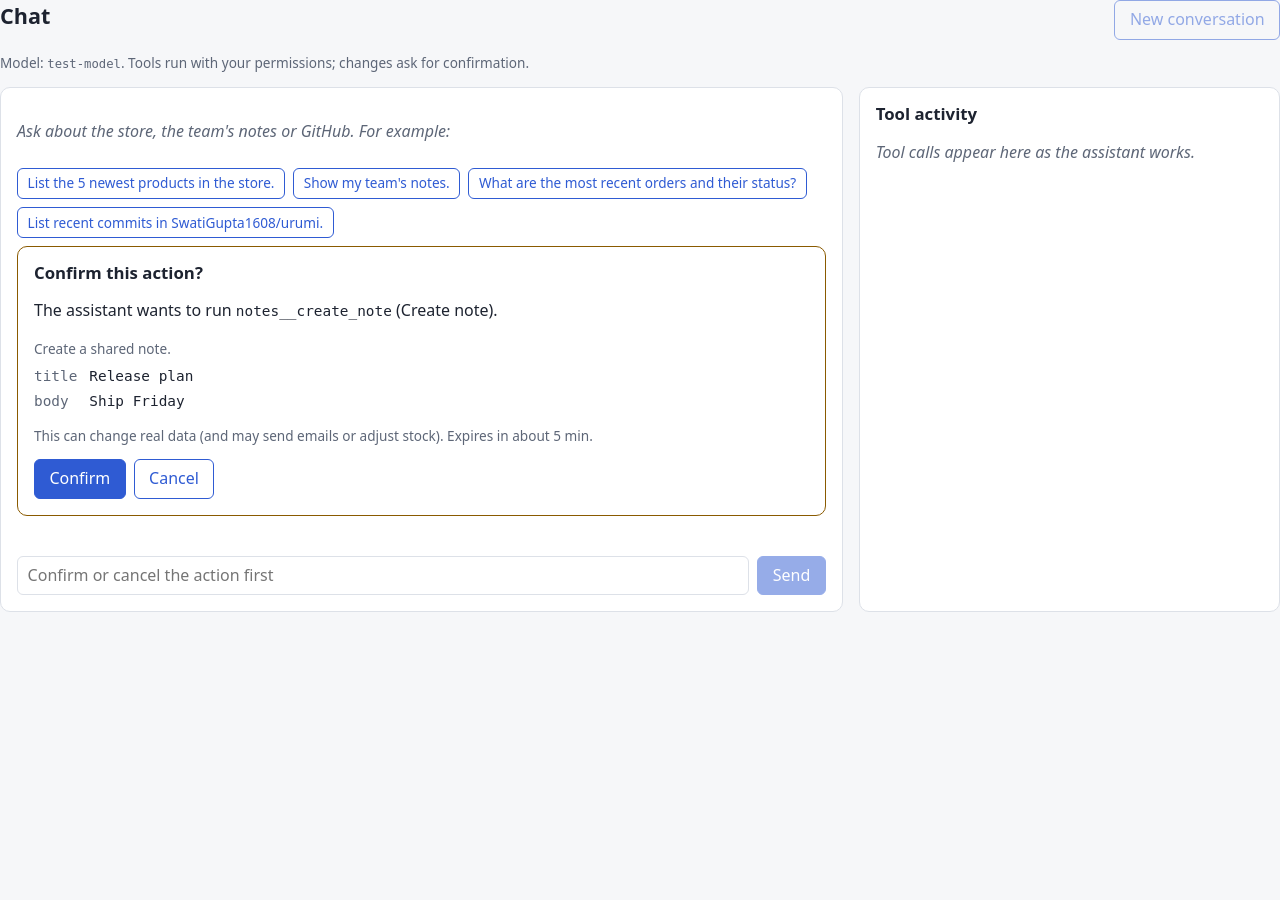
Test: chat page › previews a mutation and confirms it exactly once
The width and height of the screenshot is (1280, 900).
Expected: the dialog named "Confirm action" shows "notes__create_note", [236, 303, 392, 319]
Expected: the dialog named "Confirm action" shows "Release plan", [89, 368, 193, 384]
Click the button "Confirm" at (80, 479), box [34, 459, 126, 499]
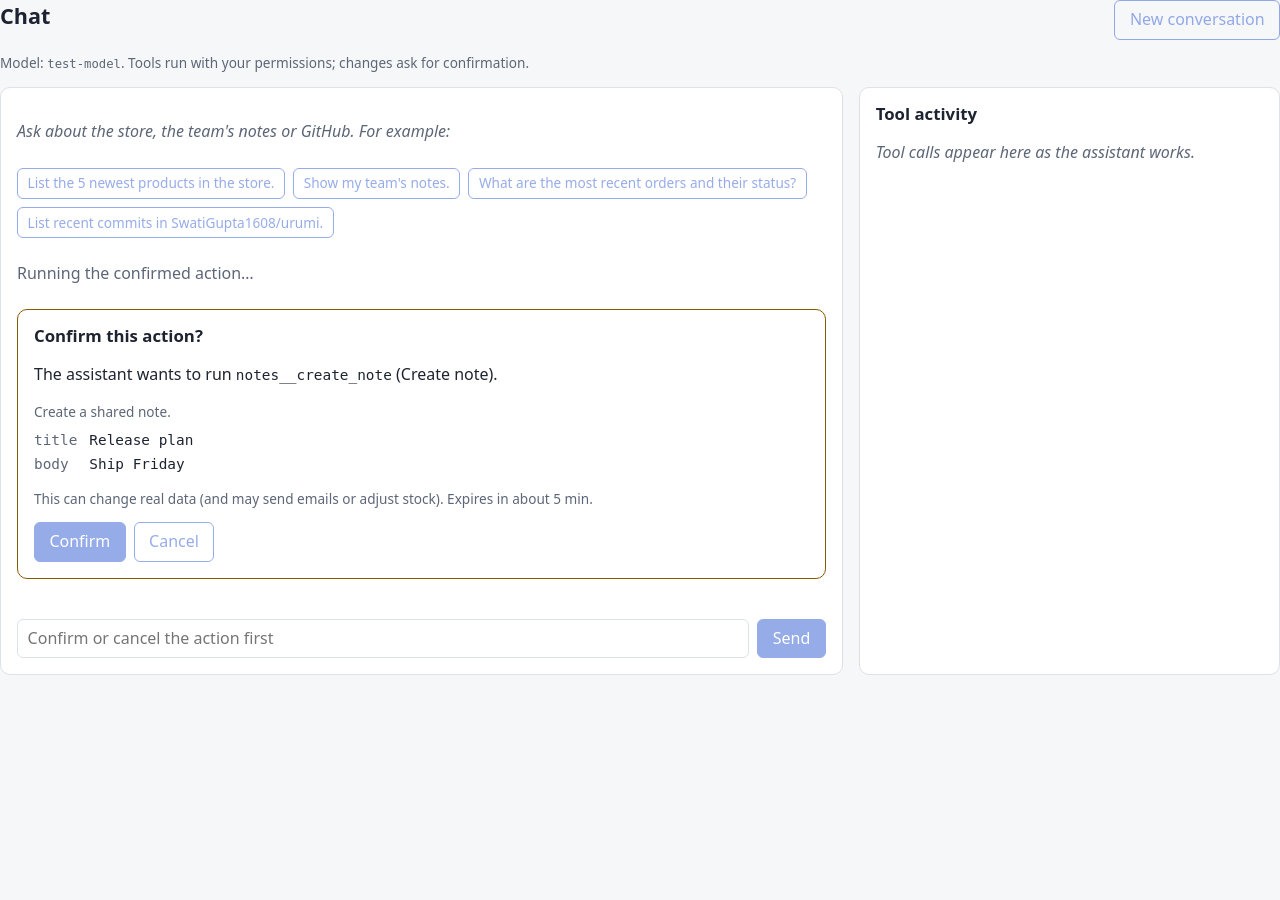
Click the button "Confirm" at (80, 542), box [34, 522, 126, 562]
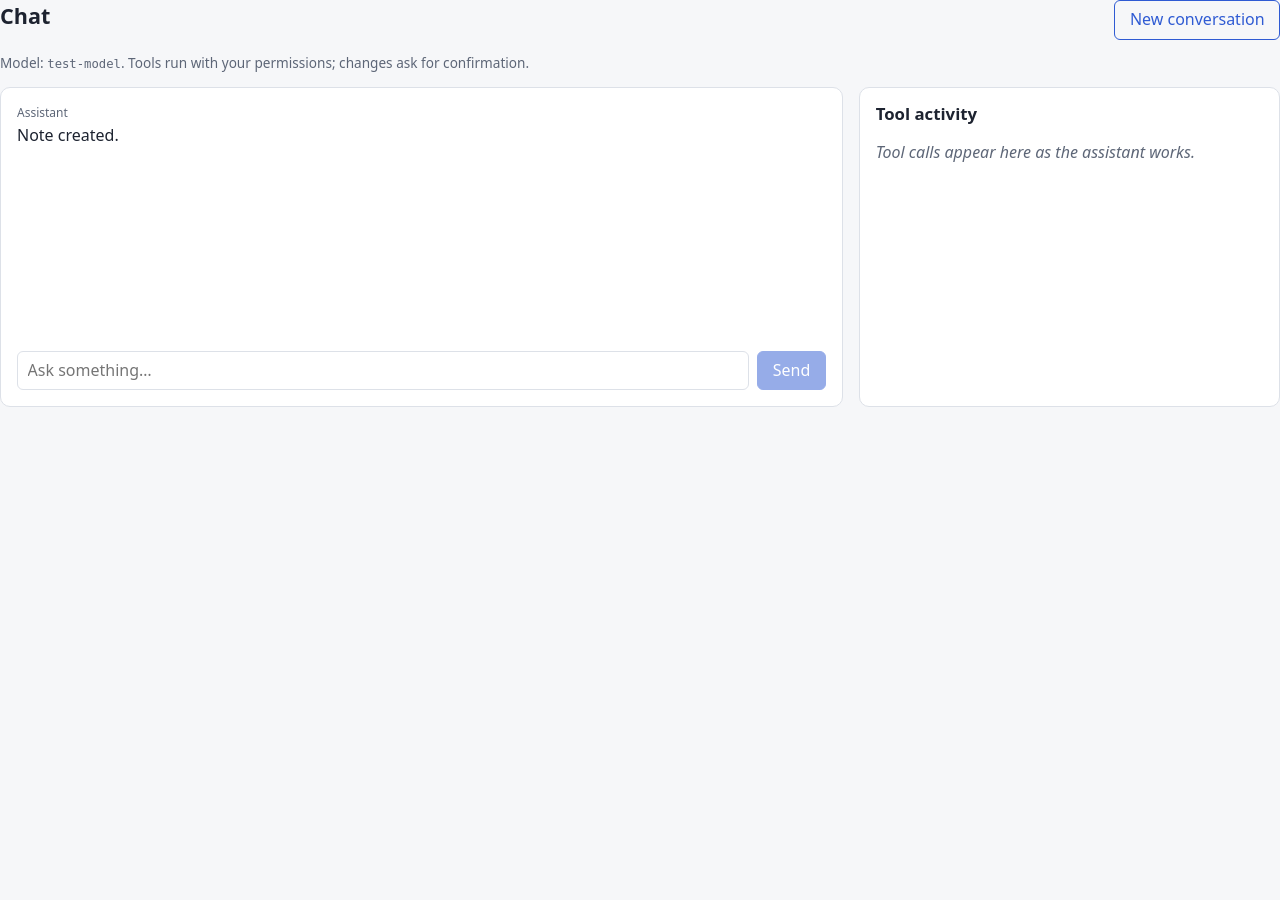
Expected: the text "Note created." is shown, [17, 124, 119, 146]
